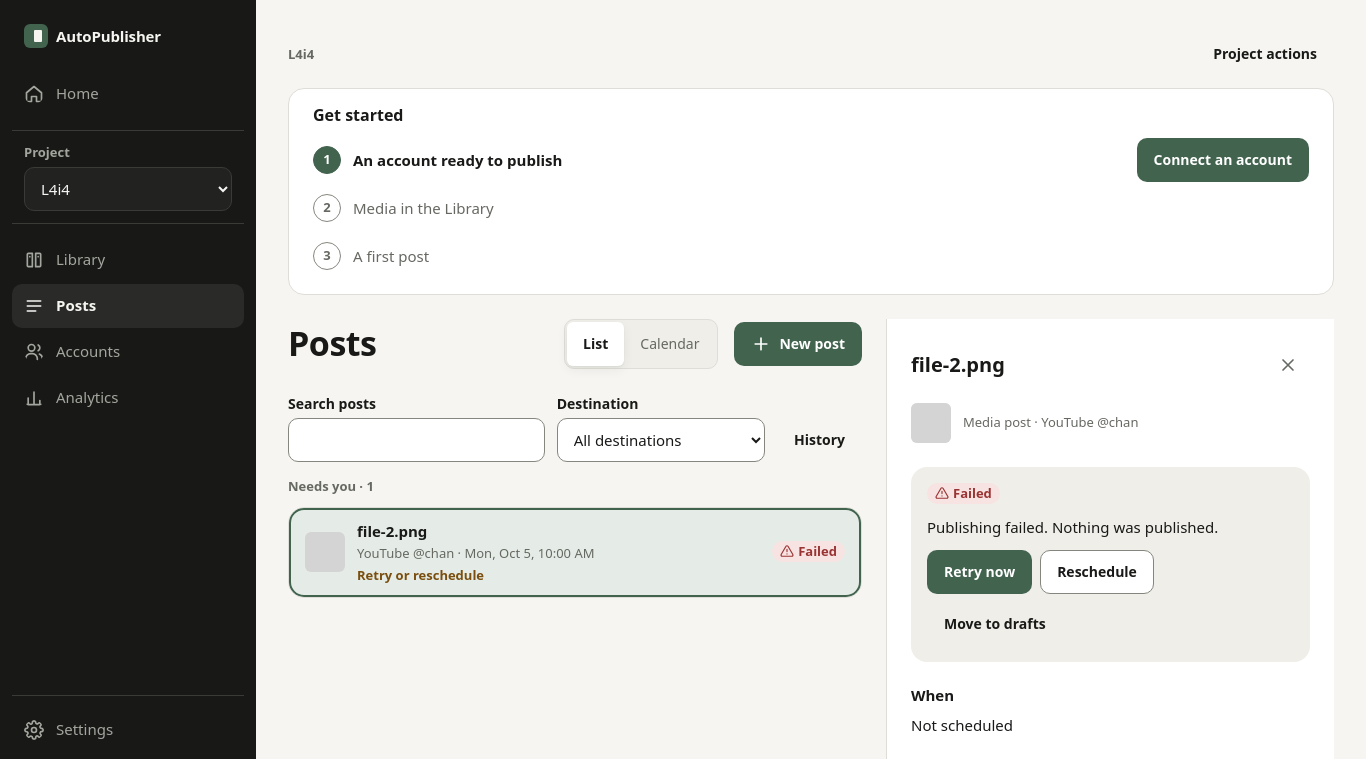
Test: Failed → Move to drafts sends scheduled_at null
Click the button "Move to drafts": (995, 624) [927, 602, 1063, 646]
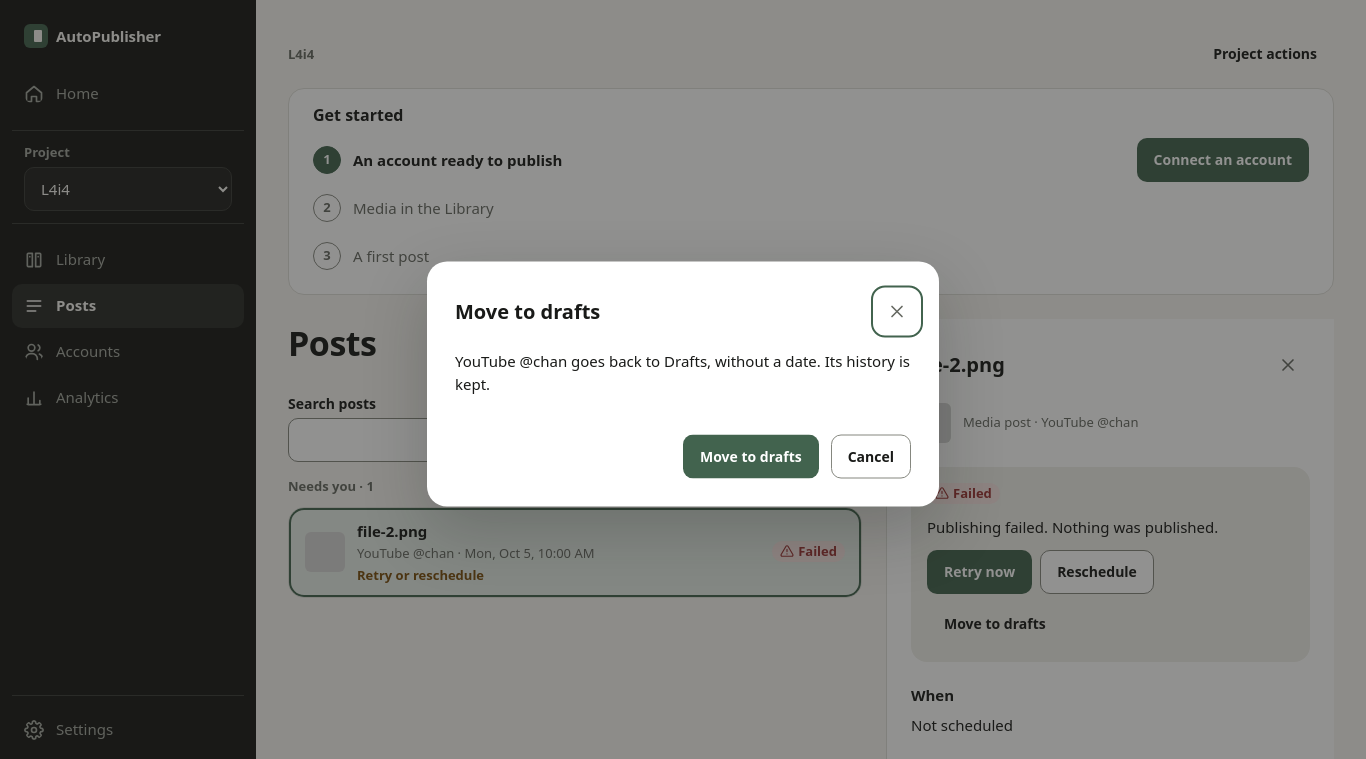
Click the button "Move to drafts": (751, 456) [683, 434, 819, 478]
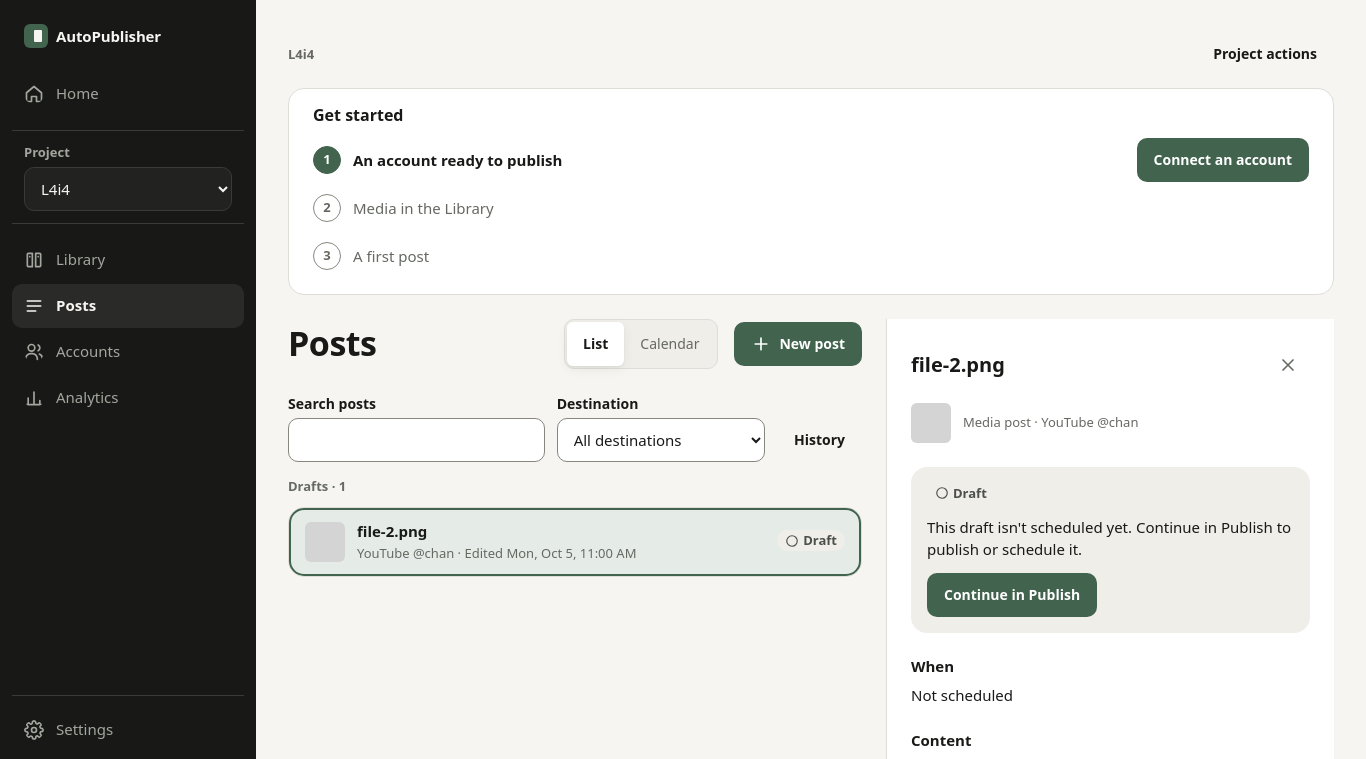
Now the text "Draft" below "Media post" is shown, box [953, 484, 987, 502]
